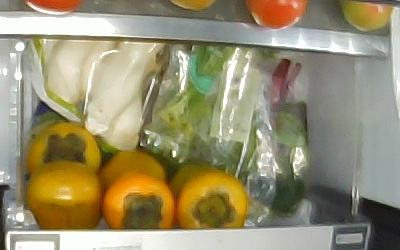persimmon: (26, 163, 102, 232), (26, 123, 102, 183), (176, 173, 247, 231), (103, 172, 176, 228)
